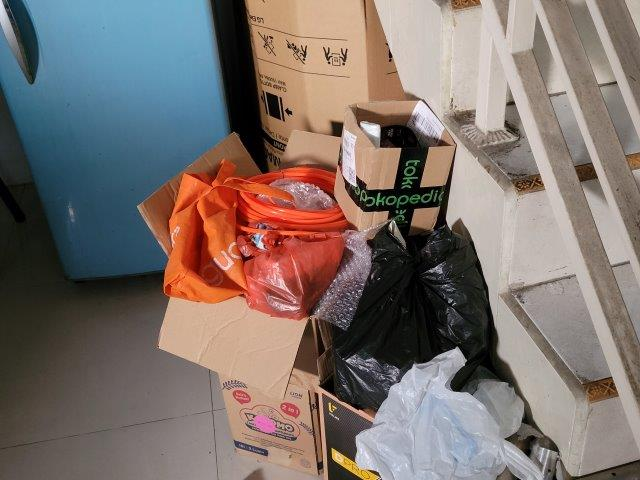kardus: (137, 130, 327, 470), (246, 2, 394, 144), (334, 99, 458, 230)
plastik: (356, 352, 543, 480), (353, 222, 496, 369)
